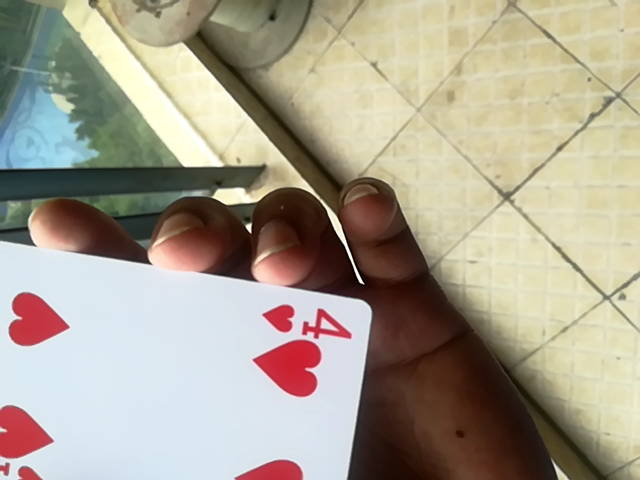hx 4: (2, 228, 373, 480)
